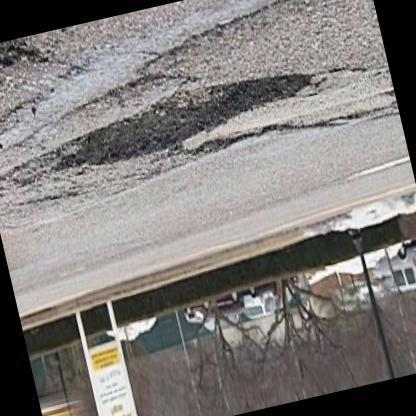pothole: (47, 66, 329, 176), (180, 114, 362, 162)
